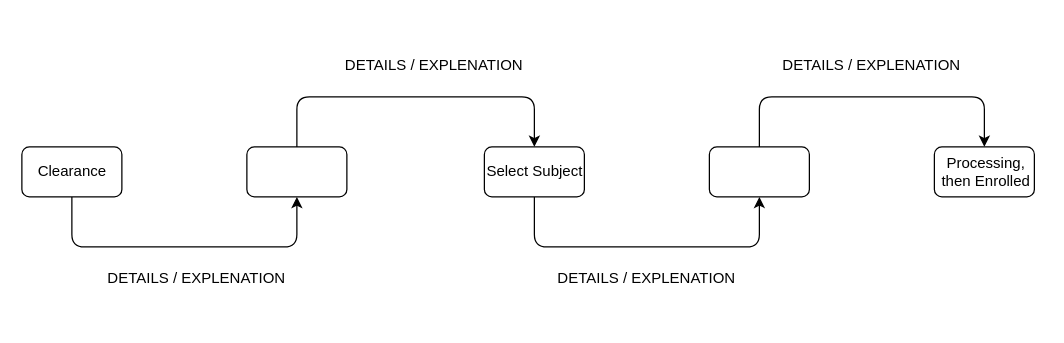
Image size: 1064x343. Some labels were removed from this diagram. The shapes that lost their labels are listed below. From the top down, each one's box as (x1, y1, x2, y2) in pixels, then its label:
(246, 146, 347, 197): Enrollment
(708, 146, 809, 197): Medical Form
